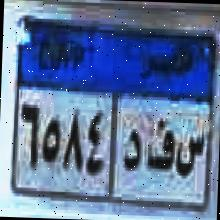4: (84, 105, 106, 180)
5: (40, 113, 61, 168)
6: (17, 97, 40, 177)
8: (62, 104, 86, 178)
daal: (122, 124, 142, 179)
faa: (144, 113, 175, 182)
seen: (175, 126, 206, 181)
